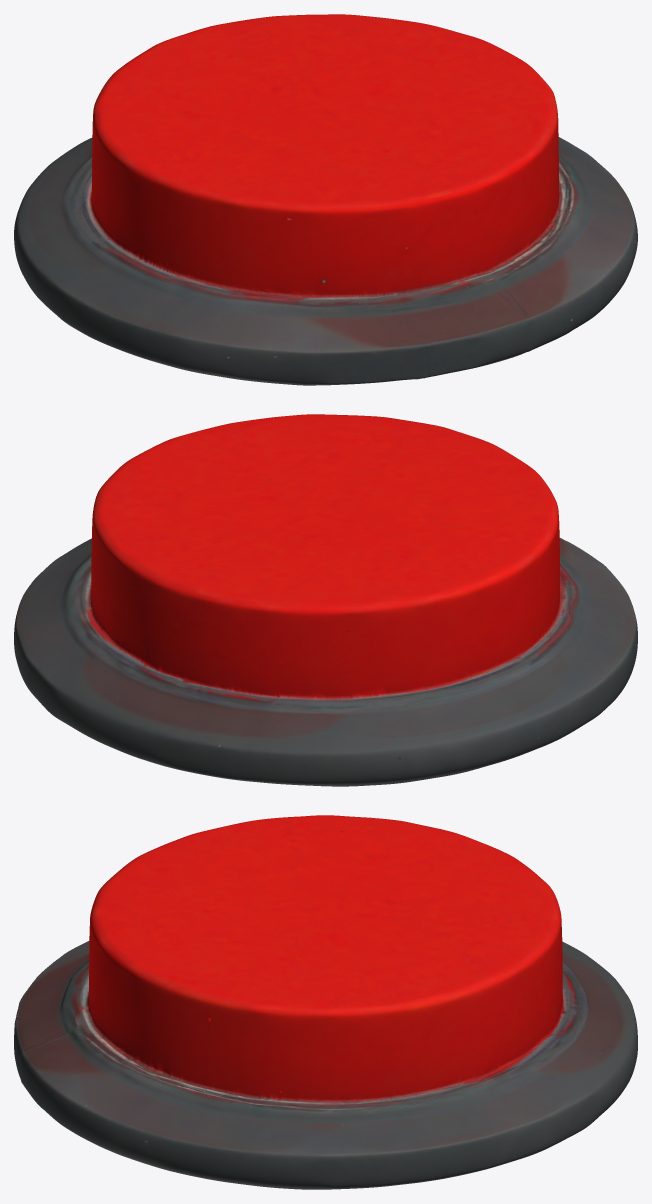
File: Meshy_AI_Big_Red_Button_0409063055_texture.glb
3 views of the same model, one above another, from view 1: azimuth 30°, elevation 25°; view 2: azimuth 150°, elevation 25°; view 3: azimuth 270°, elevation 25° (orthographic).
Bounding box in the file's own units: 2 × 0.5752 × 2.
Materials: 1 (1 with a texture image).
